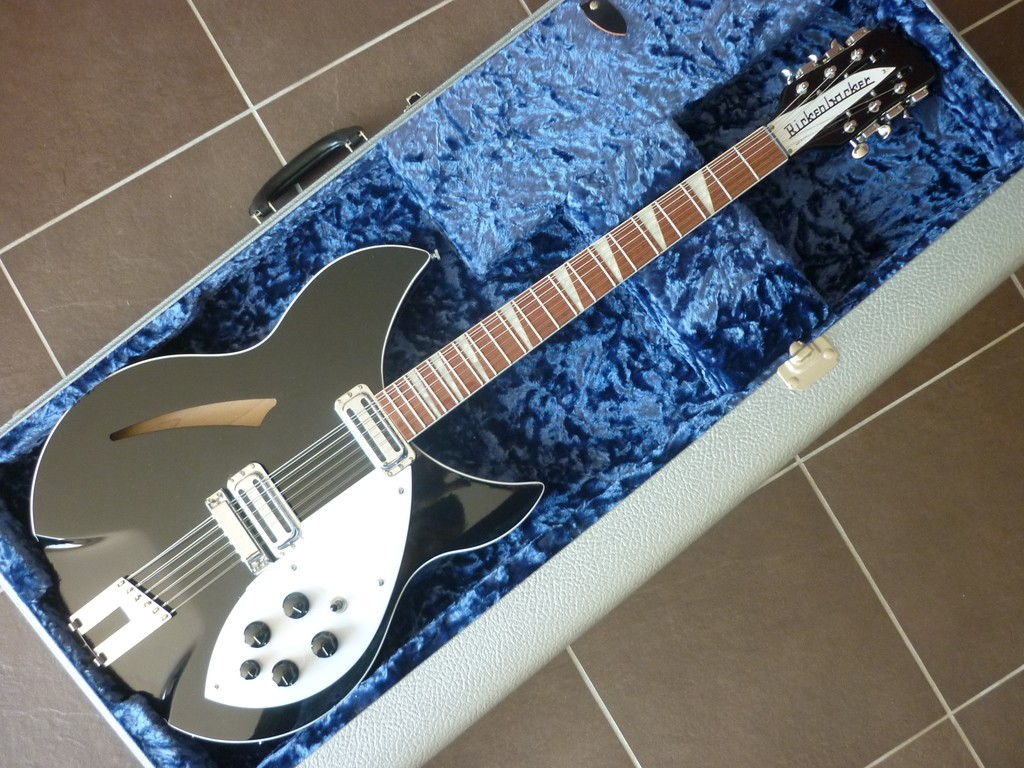guitar: (30, 27, 940, 744)
